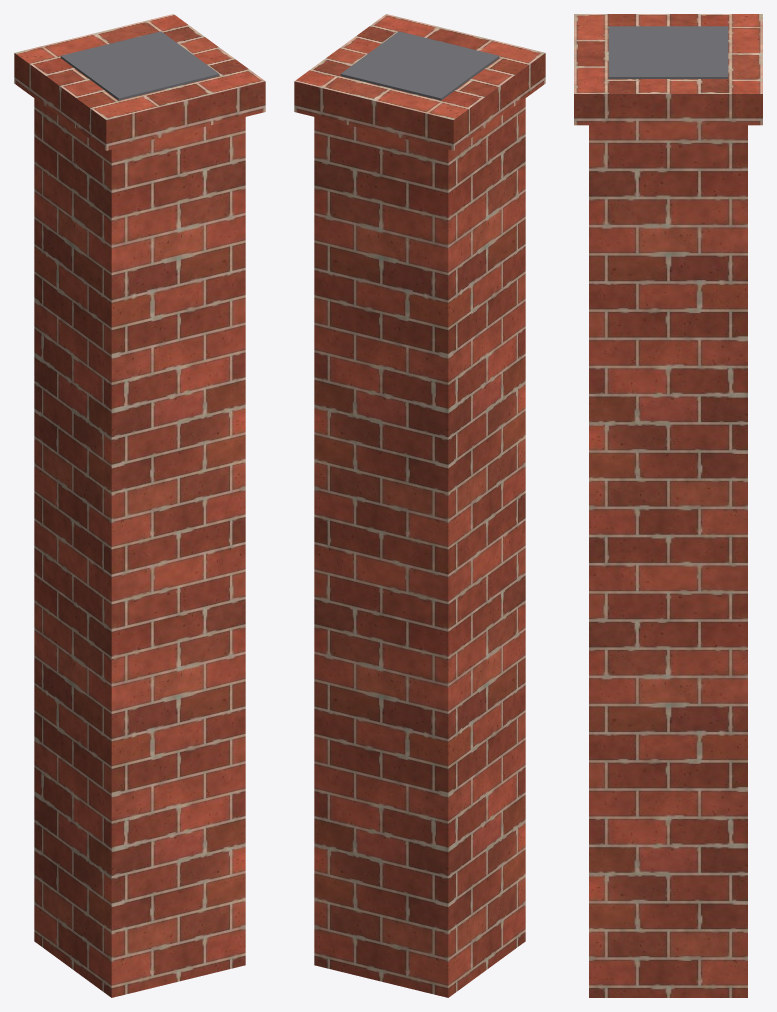
The model's file is chimney.glb.
The picture shows the model from 3 angles, left to right: view 1: azimuth 30°, elevation 25°; view 2: azimuth 150°, elevation 25°; view 3: azimuth 270°, elevation 25°; orthographic projection. The views are drawn at different scales.
Visible parts, largest first — view 1: chimney_brick, chimney_dark; view 2: chimney_brick, chimney_dark; view 3: chimney_brick, chimney_dark.
Boxes of the visible parts, box(x1,y1,x2,y2) form: chimney_brick: box(14, 14, 265, 997); chimney_dark: box(60, 31, 219, 100); chimney_brick: box(294, 14, 545, 997); chimney_dark: box(340, 31, 499, 100); chimney_brick: box(574, 14, 762, 997); chimney_dark: box(608, 26, 728, 78).
Bounding box in the file's own units: 0.76 × 4.05 × 0.76.
Materials: 2 (1 with a texture image).
